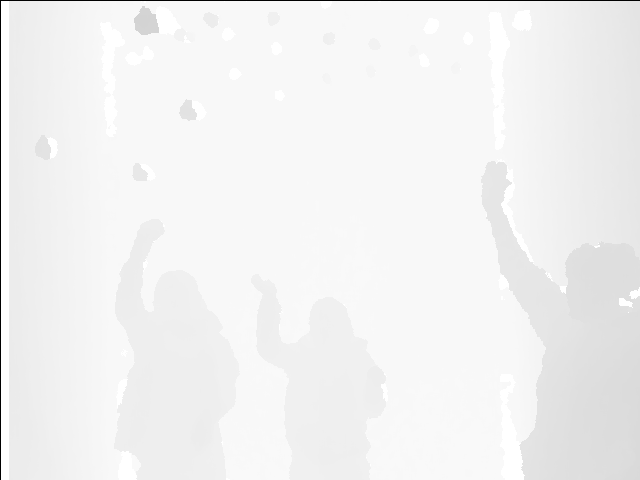hand: (480, 159, 513, 207), (131, 219, 167, 251), (250, 271, 280, 297)
